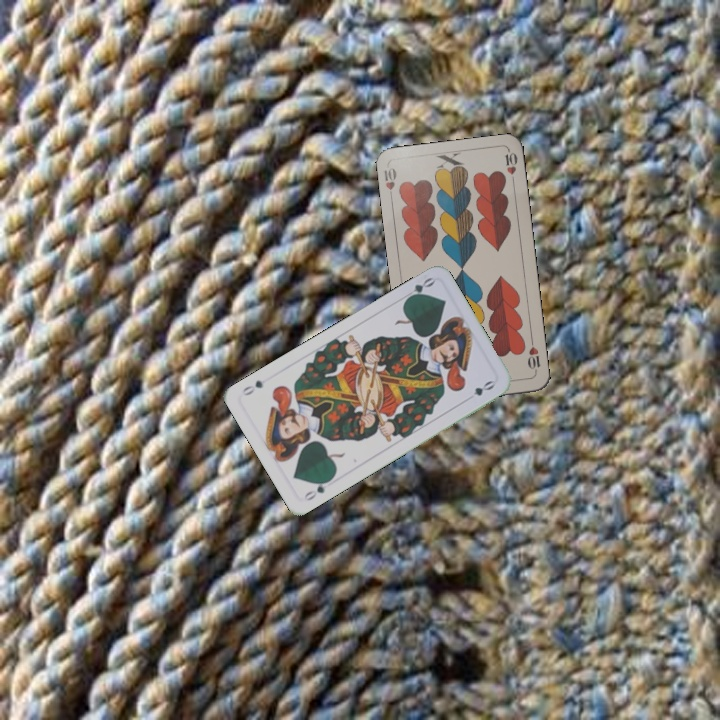GO: (401, 273, 437, 304), (300, 474, 335, 503)
H10: (524, 335, 543, 376), (380, 164, 399, 203)
